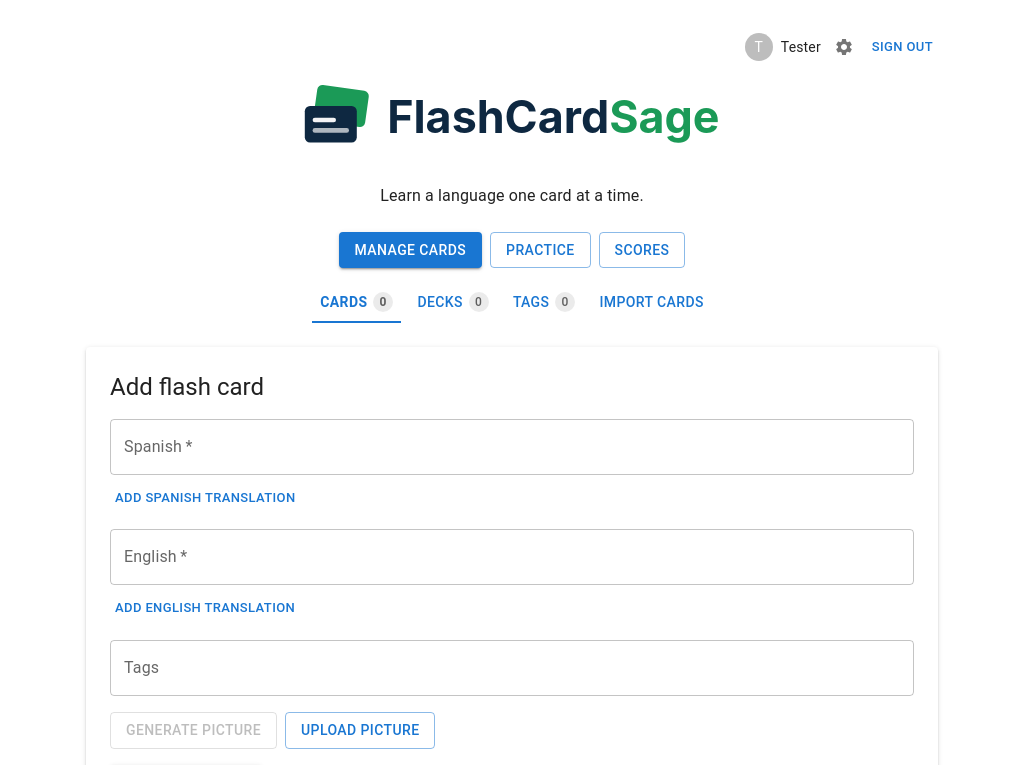
Test case: pictures › can discard the picture and ask for another
Type "el gato" into the field labelled "Spanish". click: [512, 447]
box: [110,419,914,475]
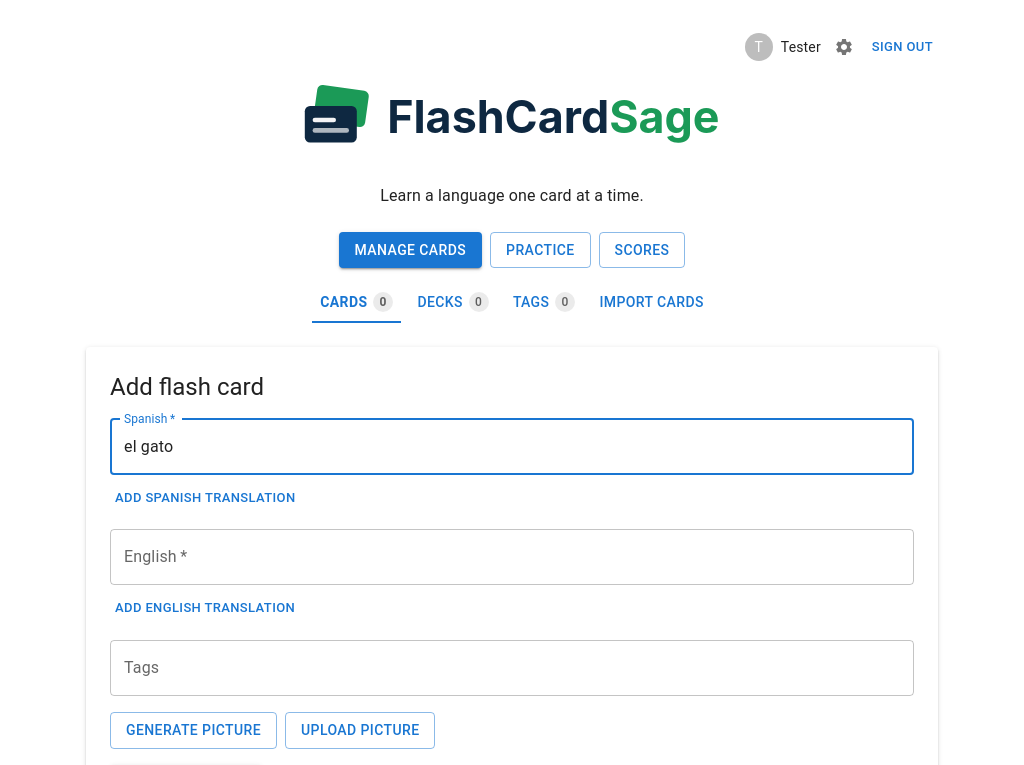
Click the button "Generate picture". click: [194, 730]
box: [110,712,277,749]
(page scrolled)
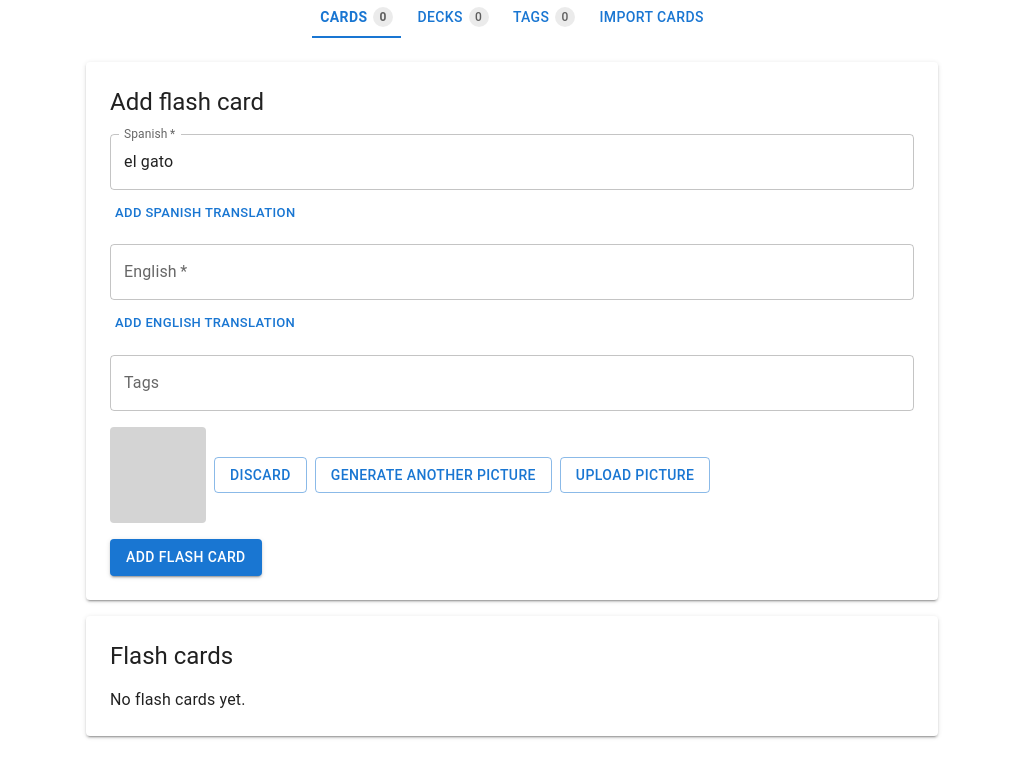
Click the button "Discard". click: [260, 475]
box: [214,457,307,493]
(page scrolled)
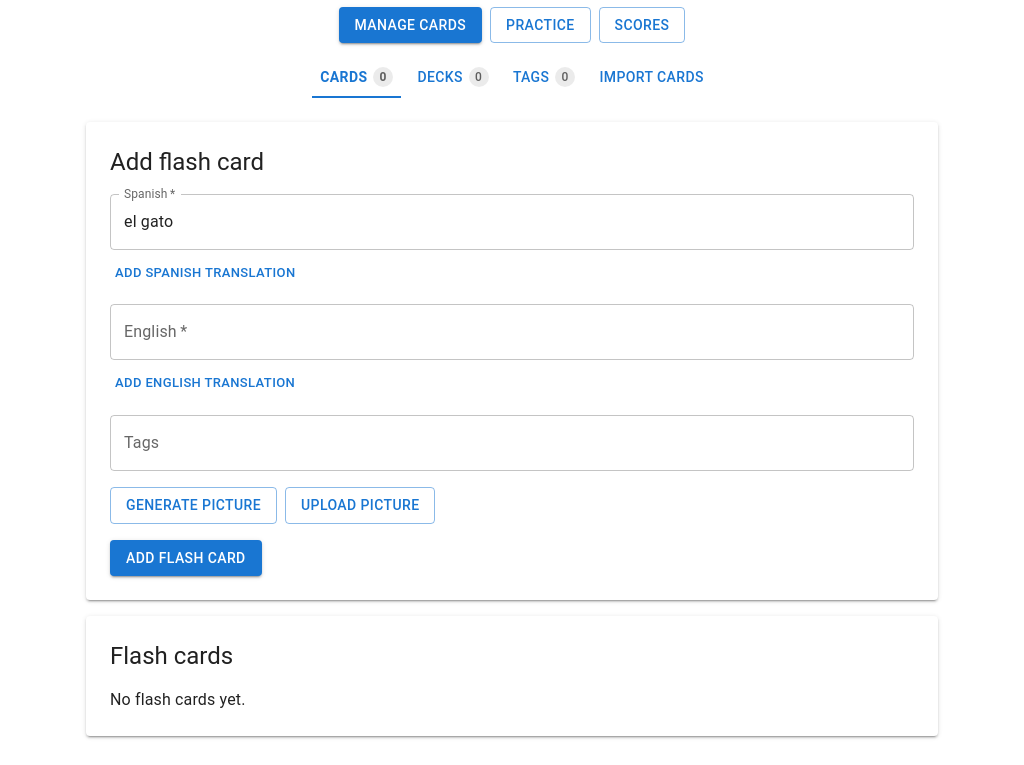
Check: the button "Generate picture" is enabled
Click the button "Generate picture". click: [194, 505]
box: [110,487,277,524]
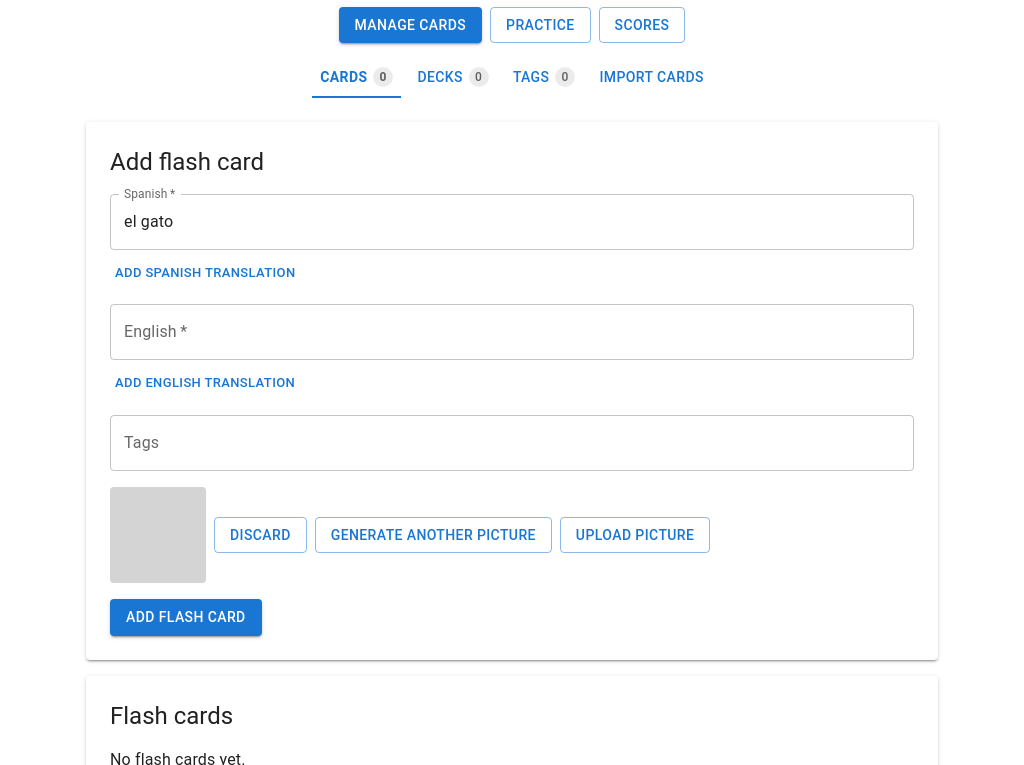
Check: the button "Generate another picture" is shown, box [315,517,552,553]
